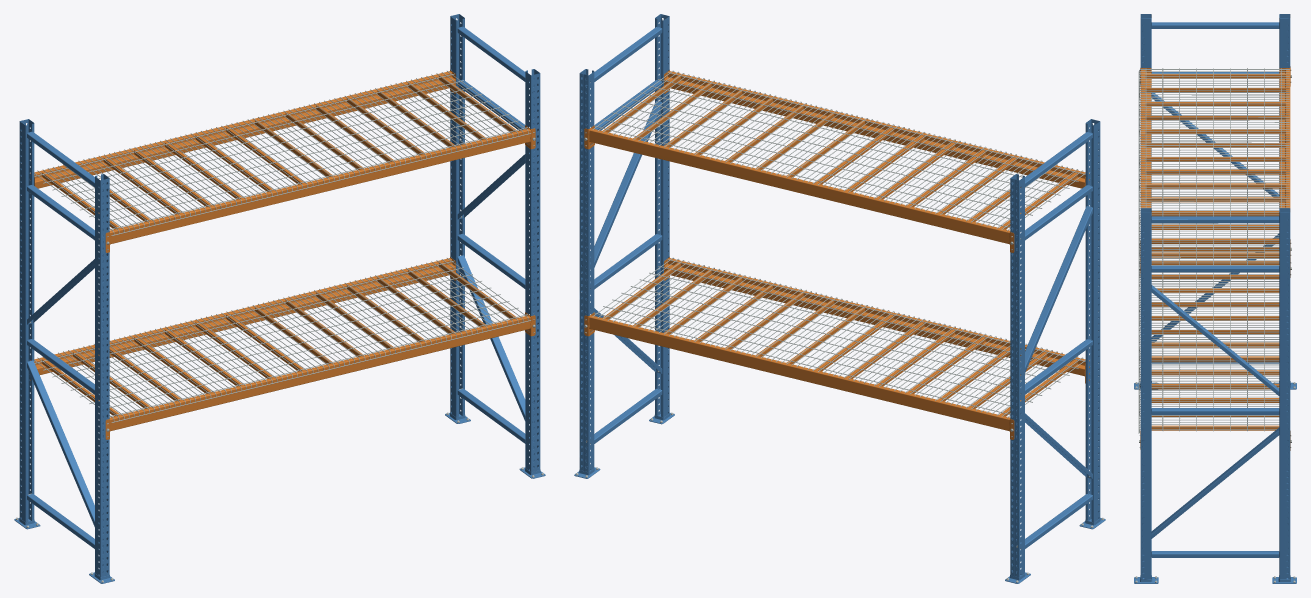
Rendered from rack_h3m_s01.glb.
3 views of the same model, side by side, from view 1: azimuth 30°, elevation 25°; view 2: azimuth 150°, elevation 25°; view 3: azimuth 270°, elevation 25° (orthographic). The views are drawn at different scales.
Size of the model in its own units: 3.49 by 3 by 1.19.
